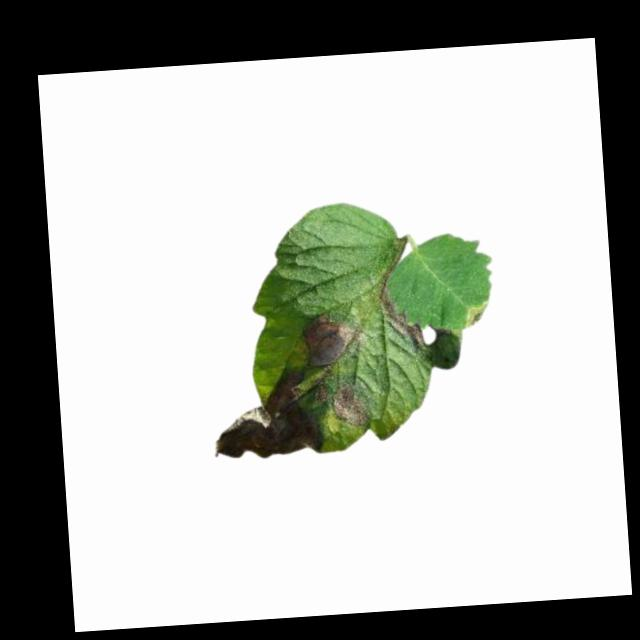Late_blight: (209, 365, 323, 464), (379, 266, 424, 345), (301, 314, 362, 372), (331, 379, 373, 431), (462, 301, 490, 327)
